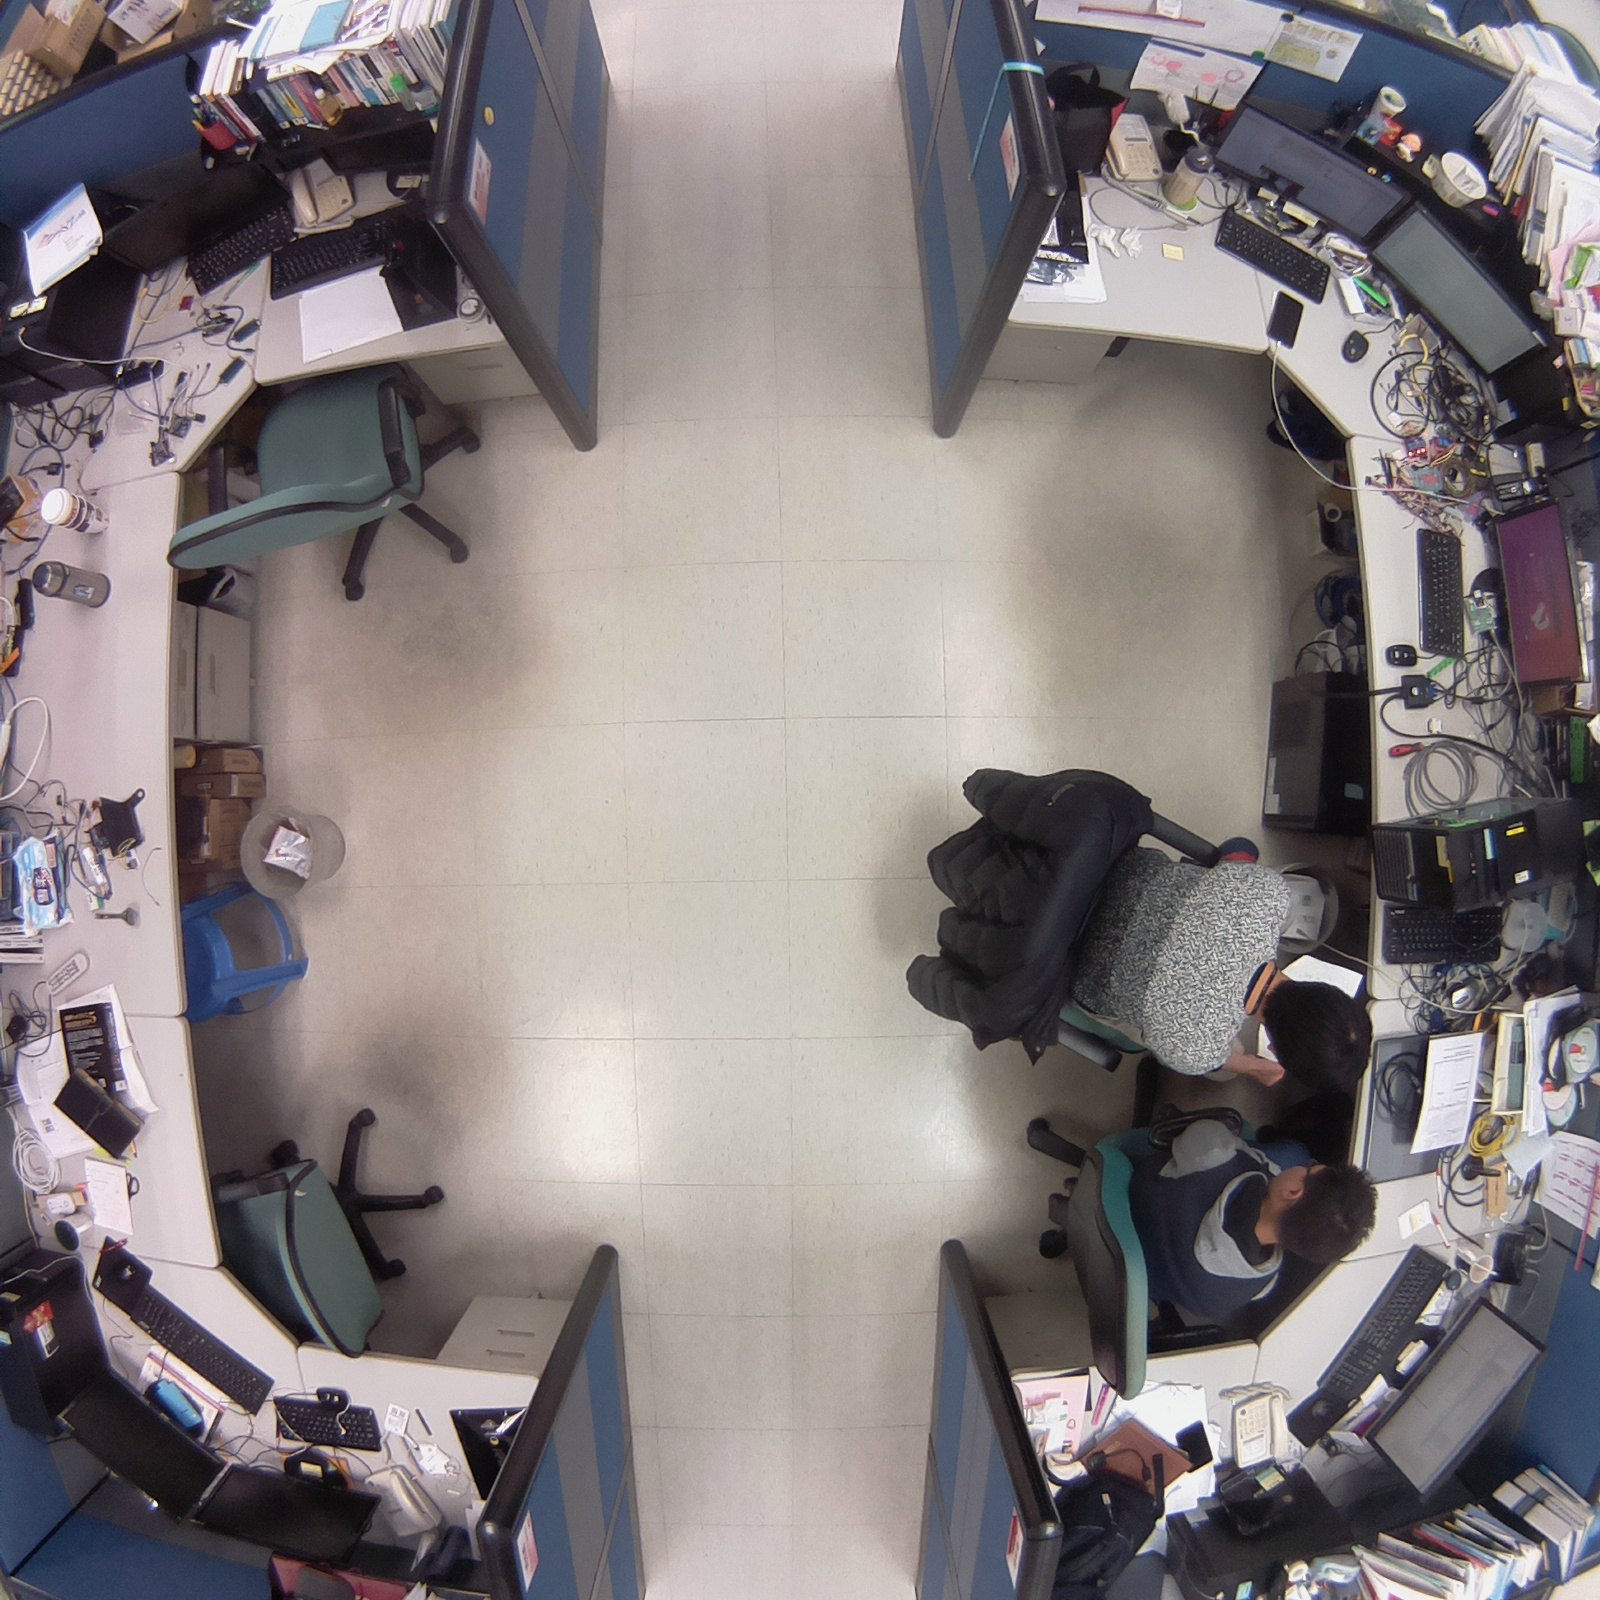chair: (142, 360, 499, 617), (199, 1081, 470, 1370)
head: (1259, 970, 1378, 1097), (1266, 1153, 1387, 1274)
sitting: (899, 750, 1387, 1104), (1014, 1075, 1389, 1409)
